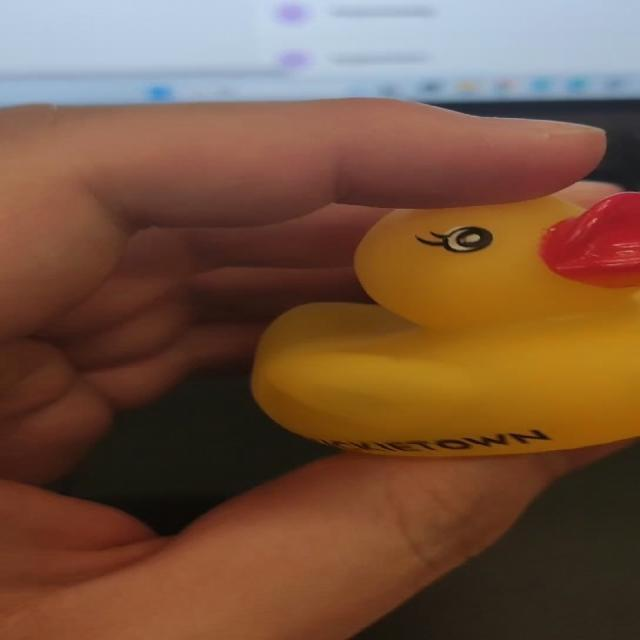rubber-duck: (251, 192, 638, 453)
